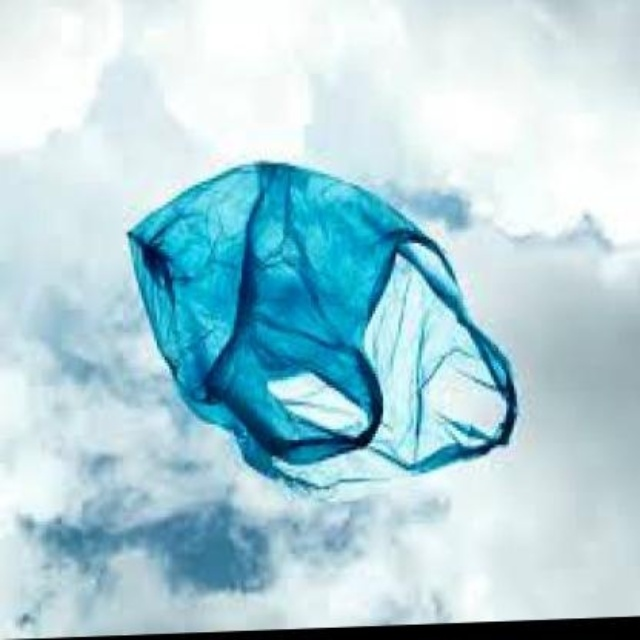trash: (128, 162, 515, 486)
